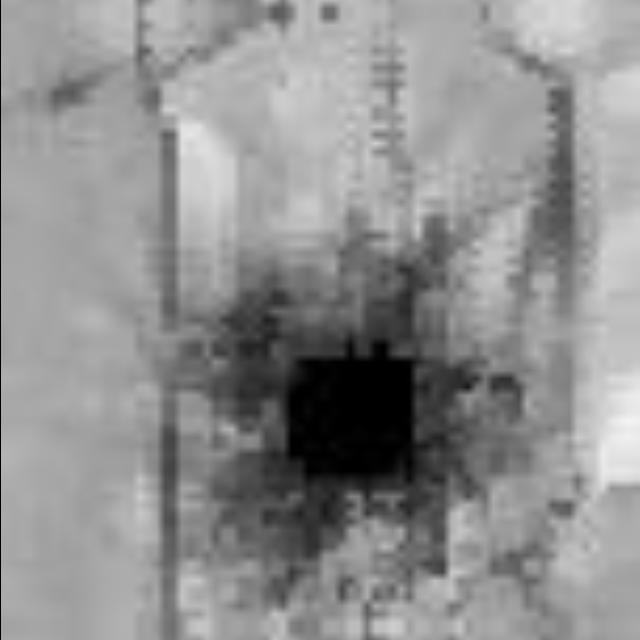good_void: (126, 207, 575, 628)
